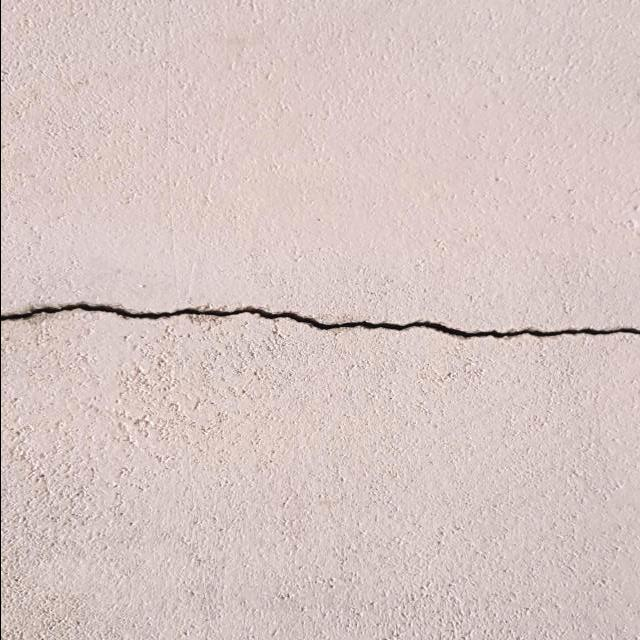SurfaceCrack: (0, 254, 639, 388)
